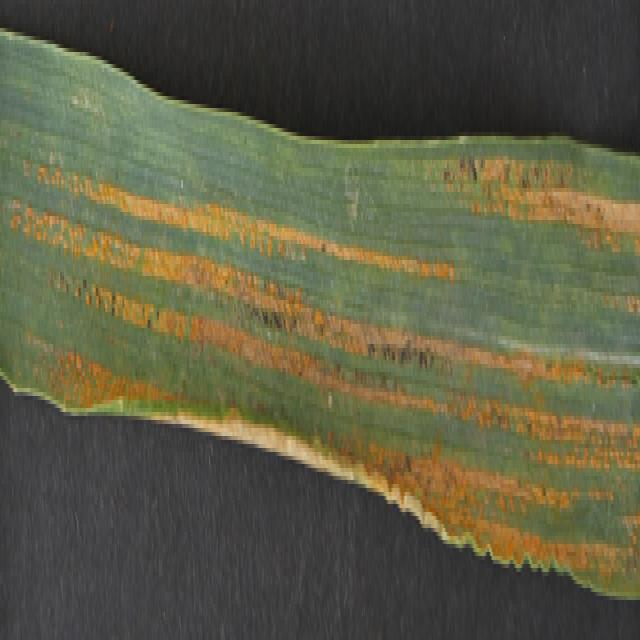leaf rust: (13, 124, 640, 584)
